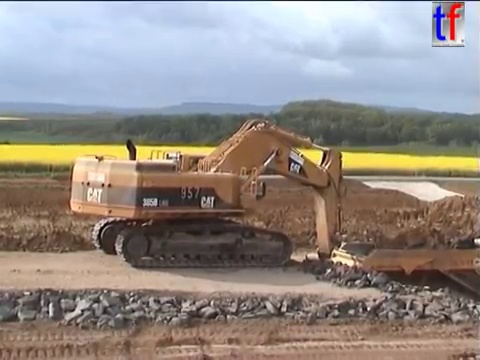excavator: (67, 116, 365, 304)
truck: (326, 232, 480, 336)
